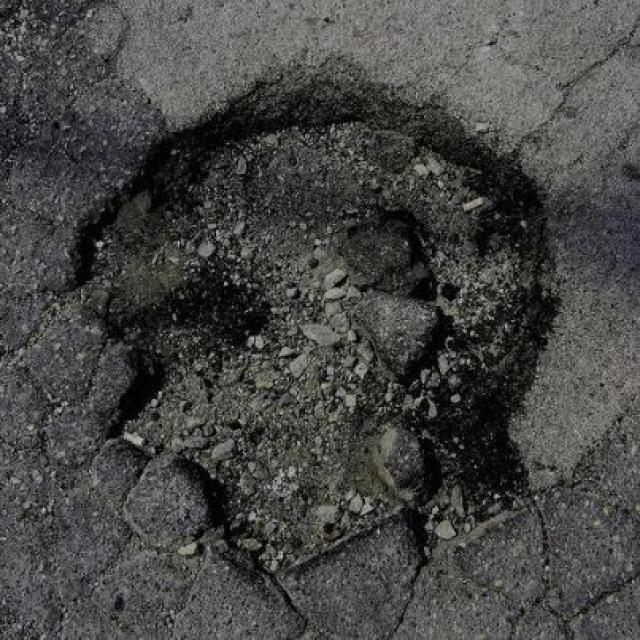pothole: (52, 62, 548, 586)
